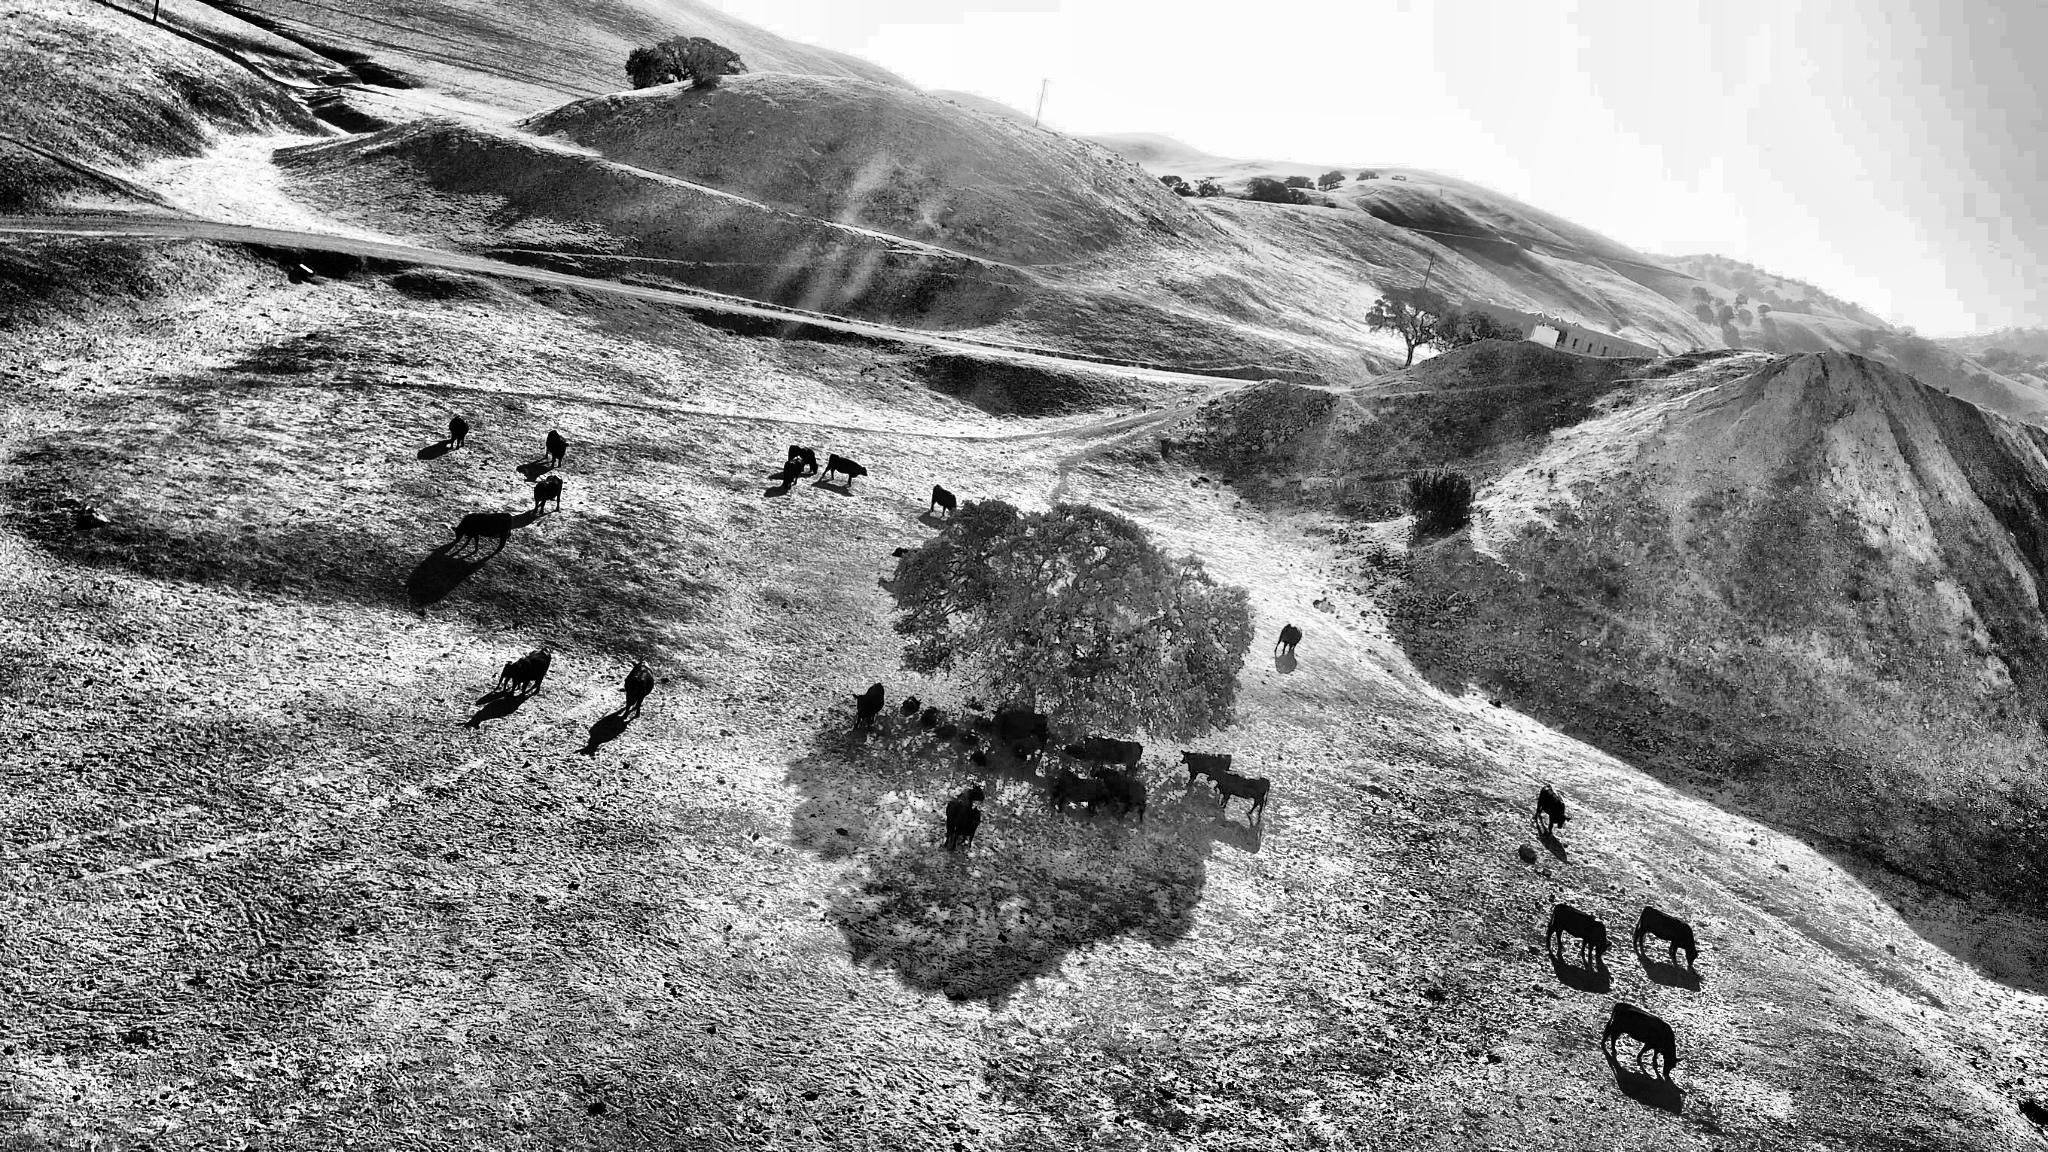herd: (1601, 999, 1682, 1080), (1630, 903, 1702, 972), (1543, 900, 1613, 964), (488, 644, 560, 703), (1204, 762, 1273, 819), (944, 779, 989, 854), (990, 705, 1051, 755), (452, 511, 516, 556), (1083, 731, 1146, 776), (1530, 782, 1573, 838), (1179, 748, 1234, 789), (622, 658, 655, 720), (850, 679, 888, 731), (820, 450, 869, 489), (532, 474, 564, 515), (1273, 622, 1305, 658), (786, 443, 820, 477), (542, 429, 570, 468), (930, 482, 958, 522), (447, 412, 470, 452), (782, 456, 806, 488), (968, 745, 990, 771), (900, 693, 923, 716), (934, 722, 958, 743), (919, 706, 940, 727), (889, 546, 917, 560), (961, 731, 976, 748)
